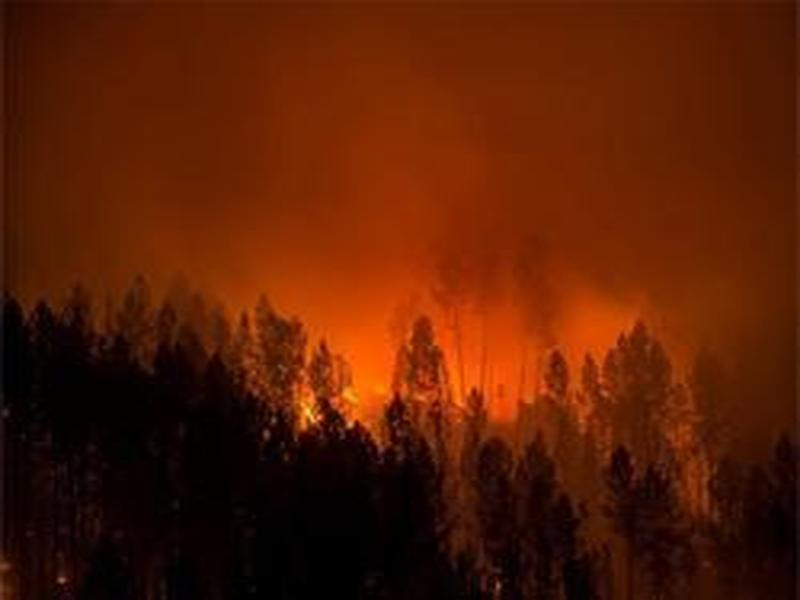FIRE: (186, 257, 676, 454)
